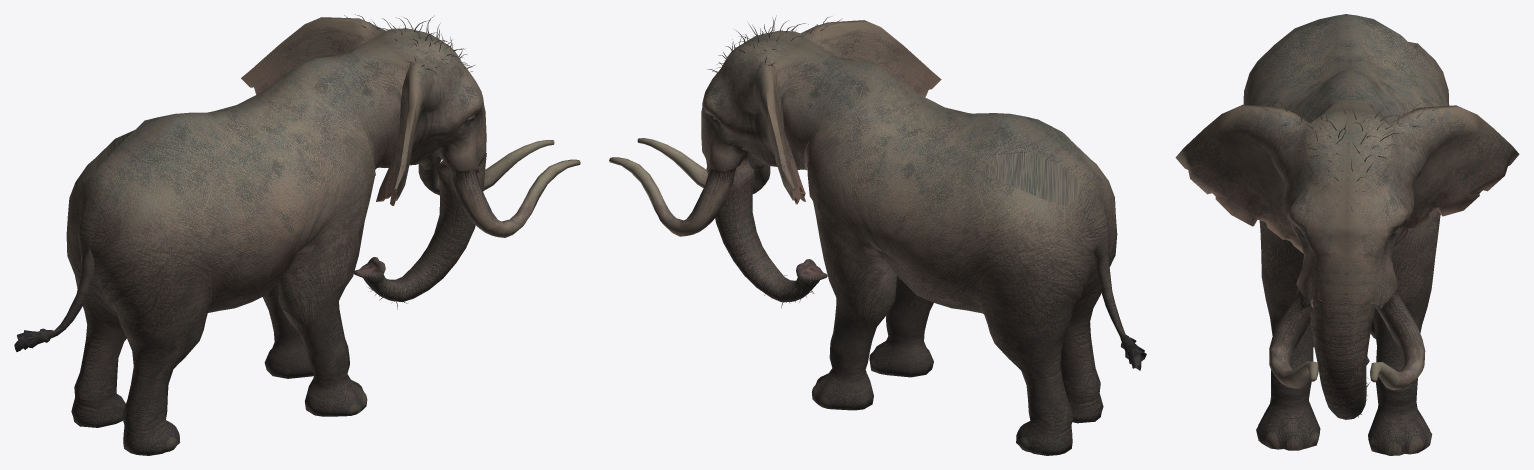
The model's file is elefante.obj.
3 renders of one model, left to right at view 1: azimuth 30°, elevation 25°; view 2: azimuth 150°, elevation 25°; view 3: azimuth 270°, elevation 25°, orthographic. The views are drawn at different scales.
Parts seen in each view (by area): view 1: patastras, torso, cabeza, patder, trompa, patiz; view 2: torso, patastras, cabeza, patiz, trompa, patder; view 3: cabeza, torso, patiz, patder, trompa, patastras.
Part boxes in pixels (left/top/right/bottom): patastras: left=14, top=120, right=211, bottom=455; torso: left=131, top=58, right=375, bottom=312; cabeza: left=241, top=14, right=580, bottom=237; patder: left=278, top=162, right=375, bottom=416; trompa: left=354, top=153, right=486, bottom=309; patiz: left=262, top=282, right=313, bottom=378; torso: left=807, top=61, right=1070, bottom=313; patastras: left=978, top=132, right=1146, bottom=455; cabeza: left=609, top=15, right=941, bottom=236; patiz: left=806, top=143, right=896, bottom=410; trompa: left=706, top=158, right=827, bottom=308; patder: left=869, top=275, right=933, bottom=377; cabeza: left=1175, top=73, right=1519, bottom=390; torso: left=1243, top=14, right=1448, bottom=220; patiz: left=1368, top=215, right=1440, bottom=455; patder: left=1256, top=220, right=1320, bottom=450; trompa: left=1310, top=299, right=1375, bottom=419; patastras: left=1304, top=18, right=1449, bottom=347.
Size of the model in its own units: 58.28 by 34.77 by 28.42.
Materials: 1 (1 with a texture image).
